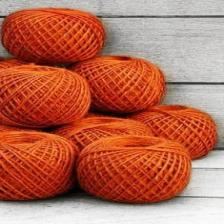orange: (76, 136, 192, 204), (0, 65, 91, 128), (3, 8, 106, 63), (72, 56, 166, 113), (0, 131, 75, 201), (130, 106, 217, 159), (54, 117, 153, 151), (1, 59, 34, 71)
